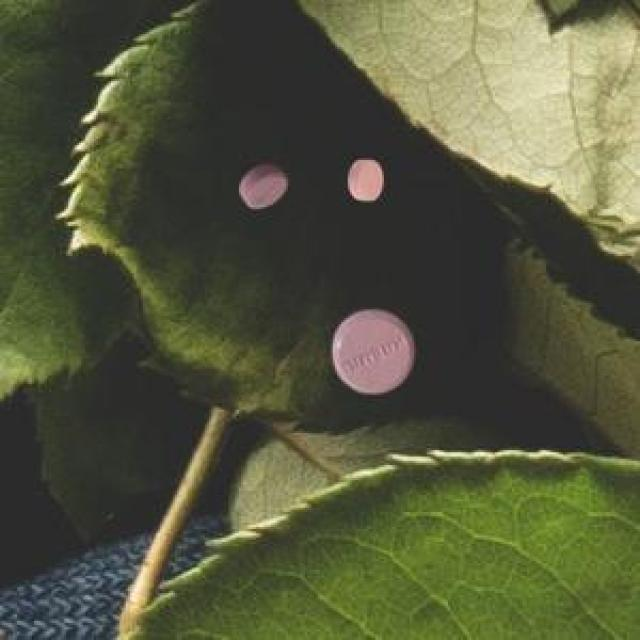Kremil_S: (325, 300, 423, 405), (230, 153, 301, 220), (334, 146, 392, 208)
